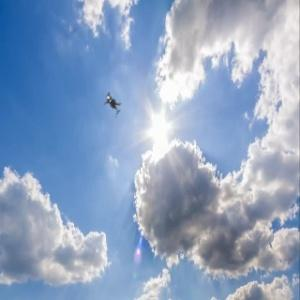drone: (70, 60, 155, 145)
